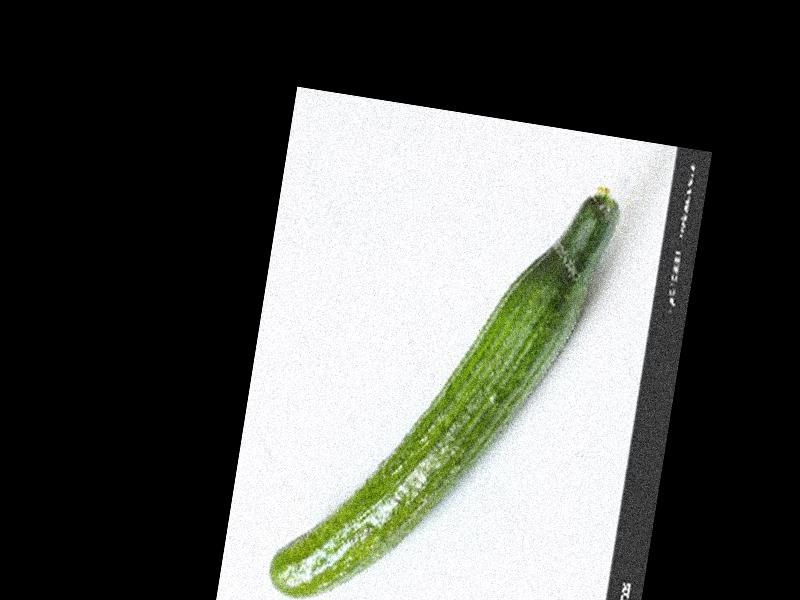Cucumber: (266, 145, 620, 600)
